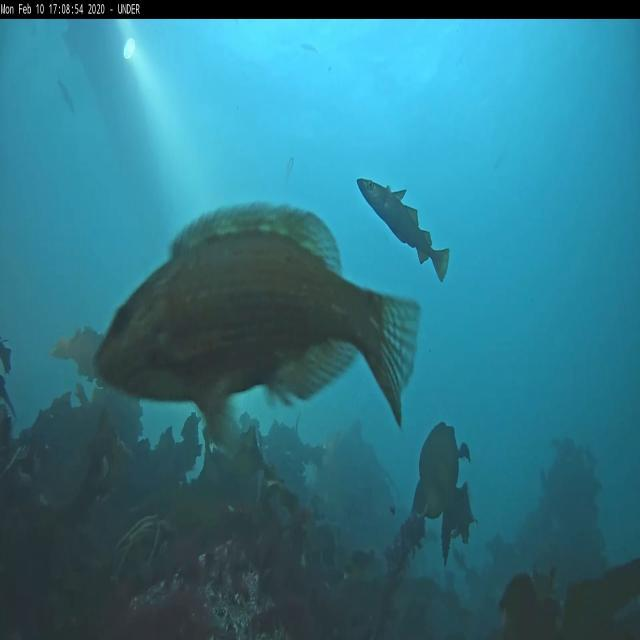fish: (94, 202, 422, 432), (357, 174, 450, 286), (56, 76, 73, 112), (285, 156, 295, 184)
